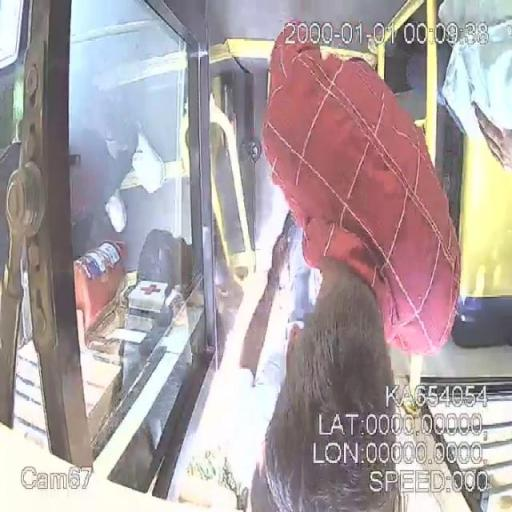persona: (248, 20, 476, 510)
